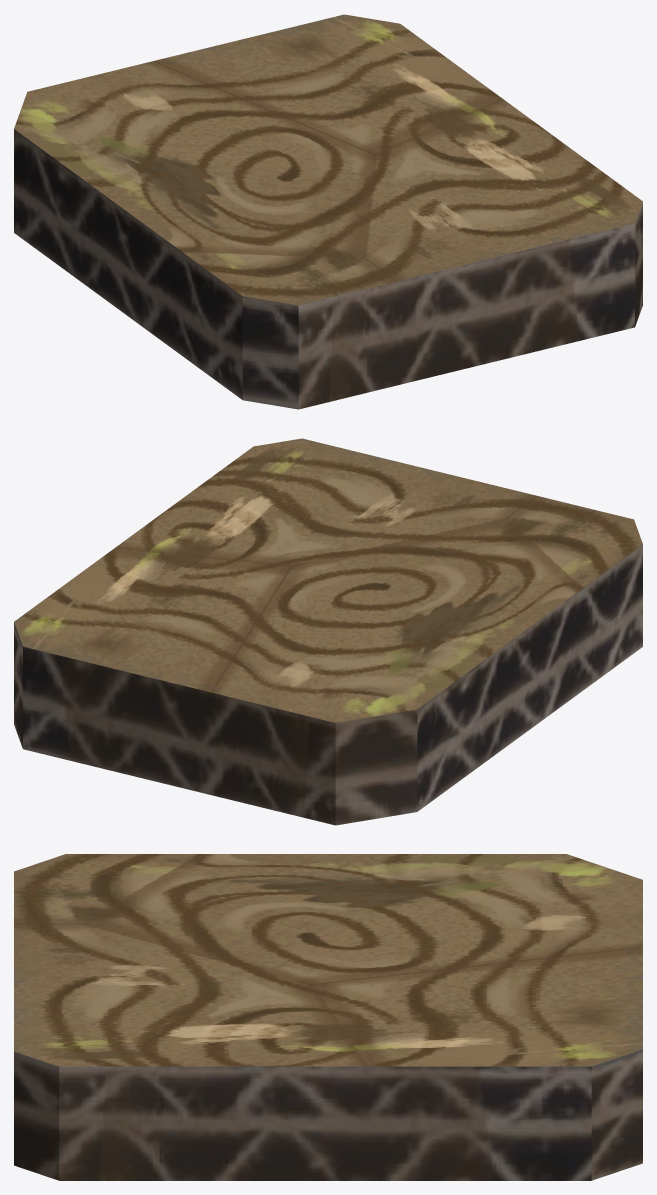
Rendered from Brückentile_broken.fbx.
The picture shows the model from 3 angles, top to bottom: view 1: azimuth 30°, elevation 25°; view 2: azimuth 150°, elevation 25°; view 3: azimuth 270°, elevation 25°; orthographic projection. The views are drawn at different scales.
Parts seen in each view (by area): view 1: PlatformTile_broken_cell02, PlatformTile_broken_cell04, PlatformTile_broken_cell03, PlatformTile_broken_cell01; view 2: PlatformTile_broken_cell02, PlatformTile_broken_cell01, PlatformTile_broken_cell04, PlatformTile_broken_cell03; view 3: PlatformTile_broken_cell04, PlatformTile_broken_cell01, PlatformTile_broken_cell02, PlatformTile_broken_cell03.
Boxes of the visible parts, <box> form: PlatformTile_broken_cell02: <box>14,61,375,347</box>; PlatformTile_broken_cell04: <box>364,99,642,384</box>; PlatformTile_broken_cell03: <box>171,250,398,409</box>; PlatformTile_broken_cell01: <box>153,14,502,154</box>; PlatformTile_broken_cell02: <box>211,519,580,825</box>; PlatformTile_broken_cell01: <box>14,547,291,796</box>; PlatformTile_broken_cell04: <box>116,438,536,565</box>; PlatformTile_broken_cell03: <box>506,496,642,698</box>; PlatformTile_broken_cell04: <box>14,924,370,1180</box>; PlatformTile_broken_cell01: <box>310,947,642,1180</box>; PlatformTile_broken_cell02: <box>85,854,642,984</box>; PlatformTile_broken_cell03: <box>14,854,202,924</box>.
Size of the model in its own units: 0.8 by 0.2 by 1.
